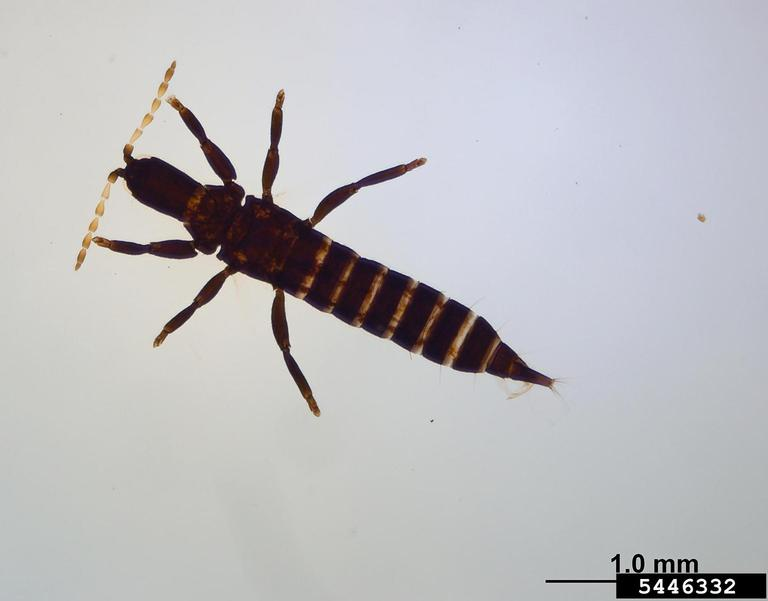Thrips: (65, 35, 576, 477)
